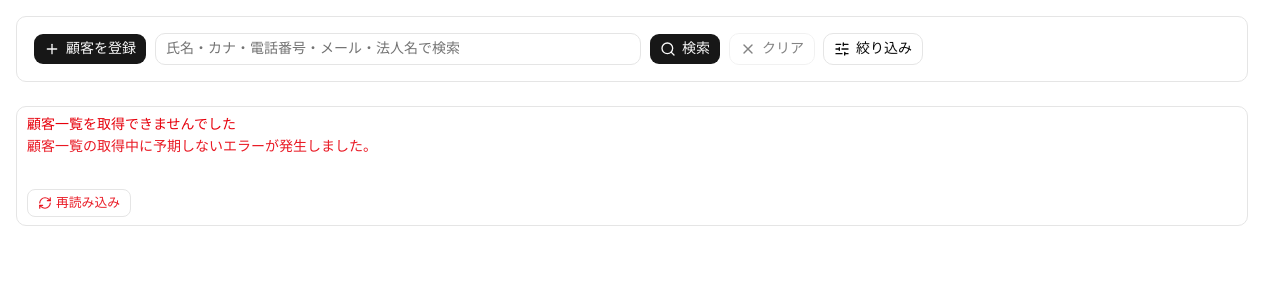
Test: CustomerListPageClient › 再読み込みを押すと、顧客一覧を再取得して表示する
Expected: the text "顧客一覧を取得できませんでした" is shown, [27,117,236,132]
Click the button "再読み込み" at (79, 203), box [27,189,131,217]
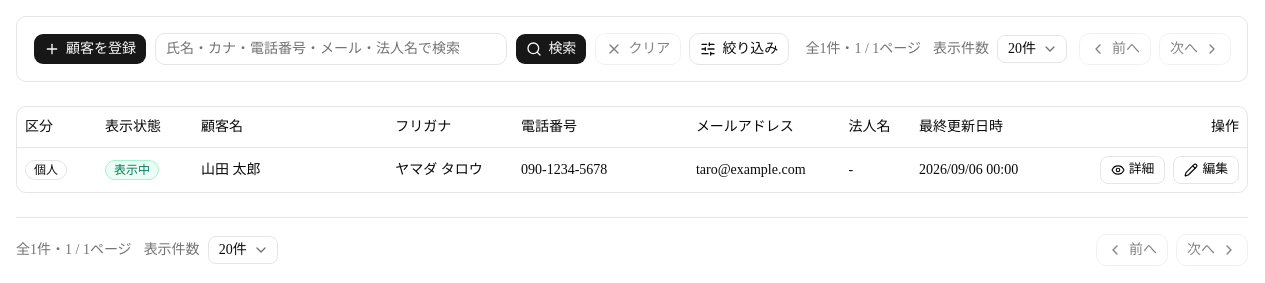
Result: the text "山田 太郎" is shown at [193,147,387,192]
Result: the text "顧客一覧を取得できませんでした" is gone
